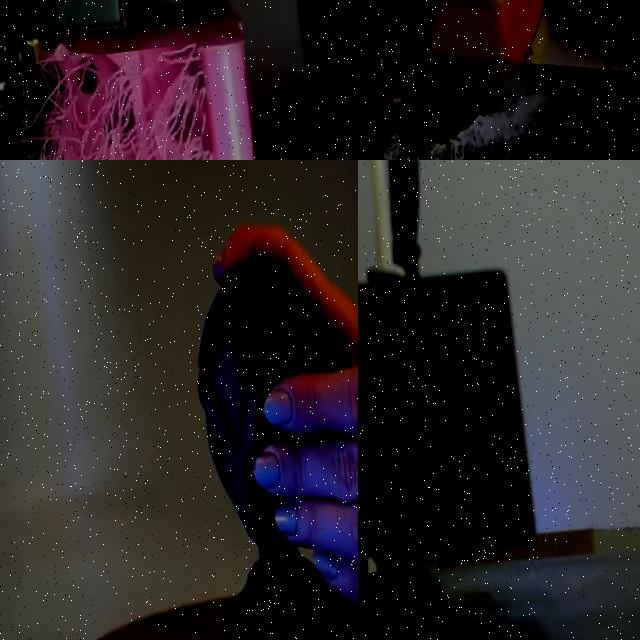spaghetti: (8, 43, 238, 160), (360, 90, 580, 160), (358, 558, 439, 618)
